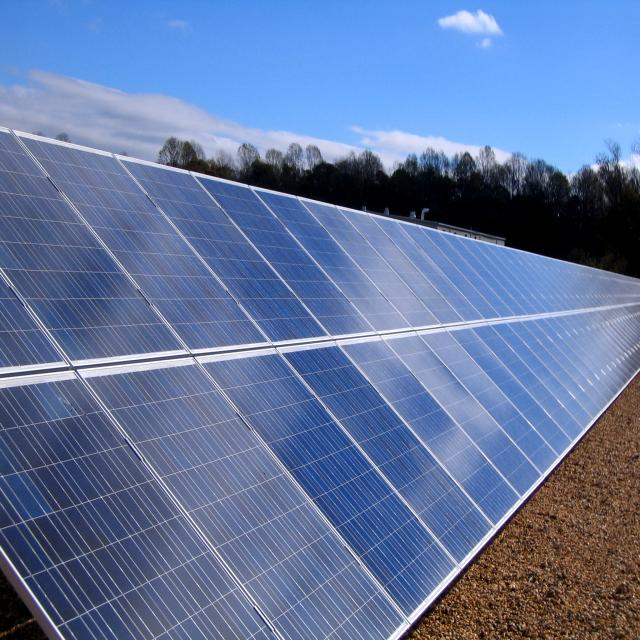crack: (82, 364, 430, 638), (7, 98, 292, 394), (97, 121, 359, 391), (211, 353, 484, 608), (280, 324, 520, 570), (321, 308, 538, 564), (1, 105, 178, 418), (350, 296, 570, 532), (194, 136, 378, 370), (244, 149, 412, 353)
